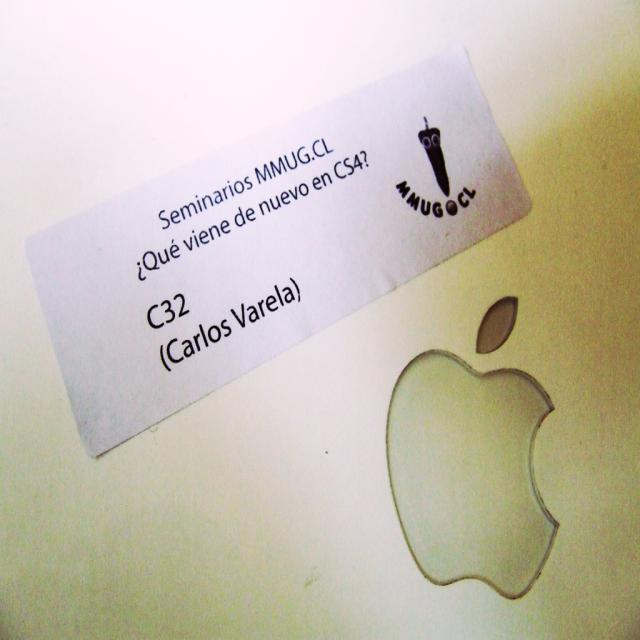Healty Apple: (389, 357, 565, 604)
